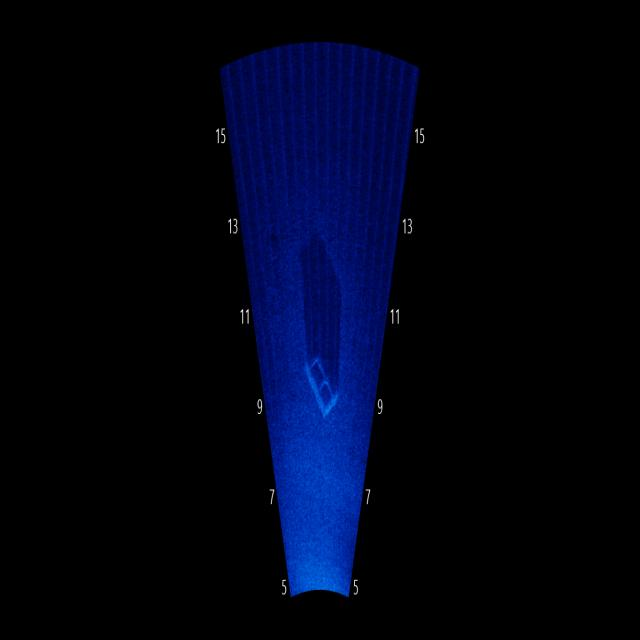square: (298, 329, 349, 447)
